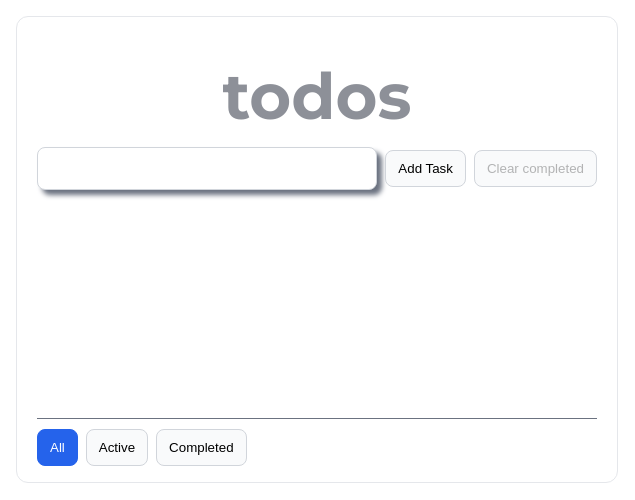
Scenario: Todos App › should clear all completed tasks
The width and height of the screenshot is (635, 500).
Type "New task 1" into the field with test id "title-input" at point(207, 168), box [37,147,377,190]
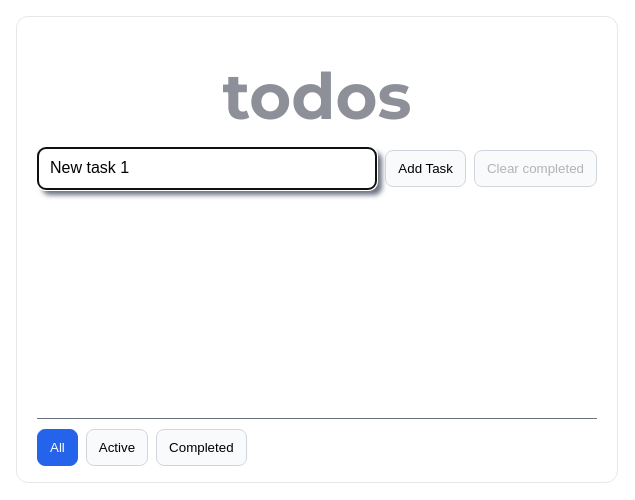
Click the button "Add Task" at point(426, 168), box [385,150,466,187]
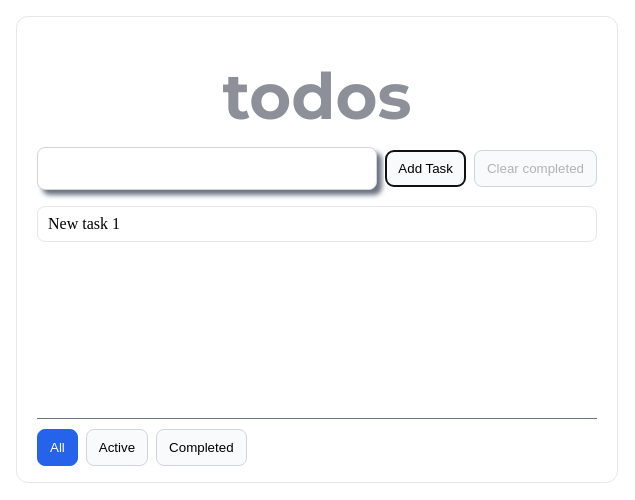
Type "New task 2" into the field with test id "title-input" at point(207, 168), box [37,147,377,190]
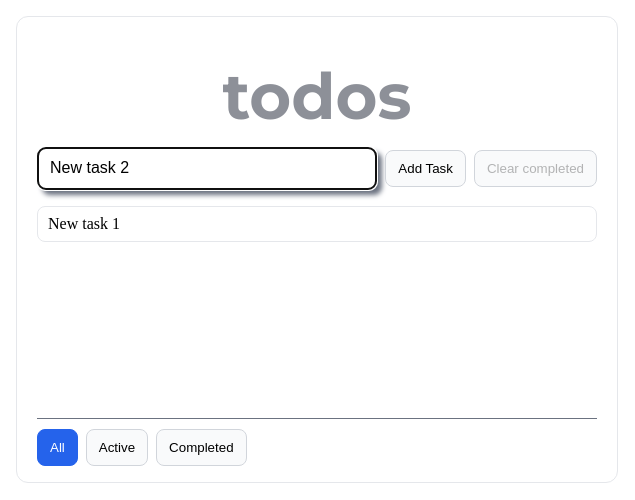
Click the button "Add Task" at point(426, 168), box [385,150,466,187]
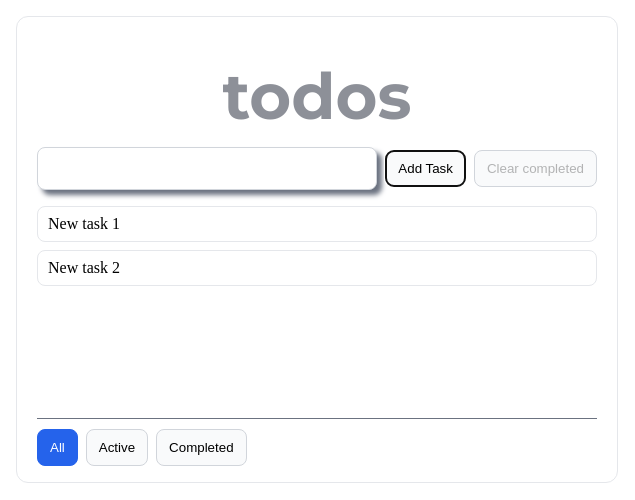
Click the checkbox labelled "New task 1" at point(84, 223), box [48,215,120,232]
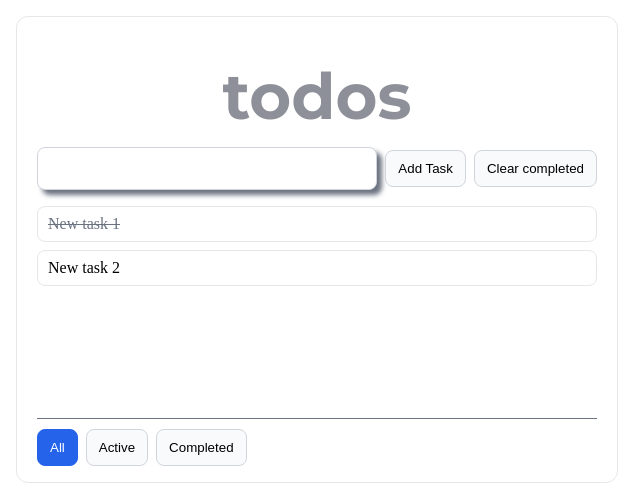
Click the button "Clear completed" at point(536, 168), box [474,150,597,187]
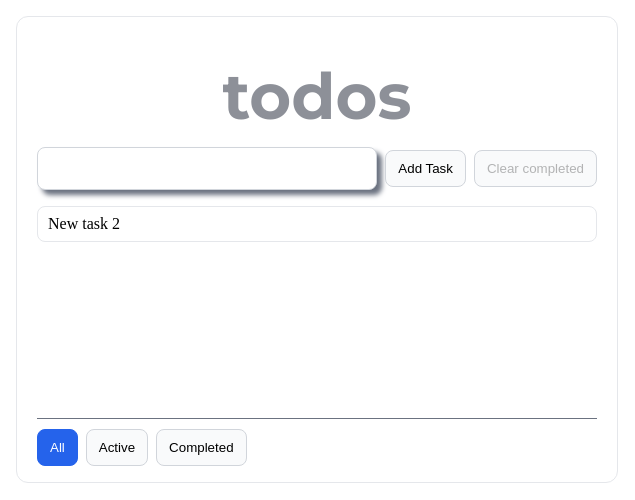
expect the text "New task 2" is shown: met, box [48,215,120,233]
expect the text "New task 1" is gone: met
expect the button "Clear completed" is disabled: met, box [474,150,597,187]
